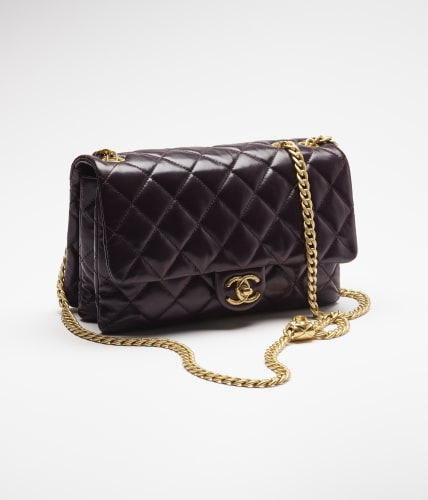channel: (62, 121, 403, 412), (129, 157, 272, 256), (288, 132, 338, 325), (216, 265, 286, 321)
